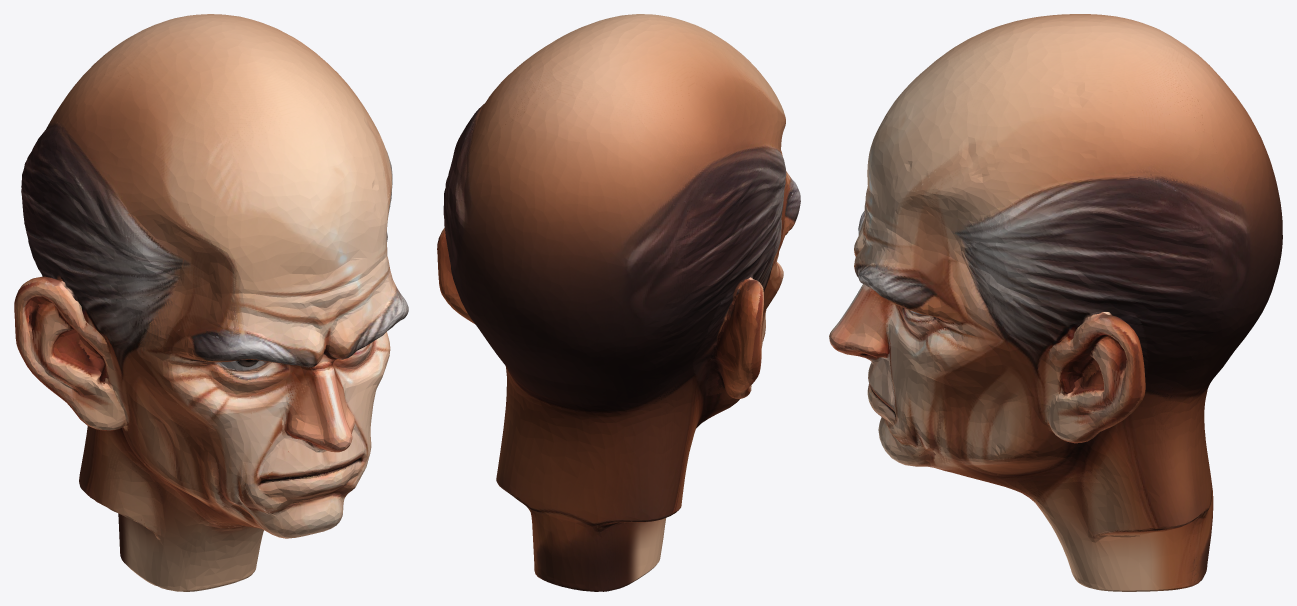
The model's file is side_hitoro_repaired_atlas.glb.
3 views of the same model, side by side, from view 1: azimuth 30°, elevation 25°; view 2: azimuth 150°, elevation 25°; view 3: azimuth 270°, elevation 25° (orthographic). The views are drawn at different scales.
Visible parts, largest first — view 1: temp_mesh.ply; view 2: temp_mesh.ply; view 3: temp_mesh.ply.
Part boxes in pixels (x1,y1,x2,y2): temp_mesh.ply: [14, 14, 408, 591]; temp_mesh.ply: [437, 14, 800, 591]; temp_mesh.ply: [829, 14, 1282, 591].
Size of the model in its own units: 1.05 by 1.59 by 1.21.
1 material, 1 textured.
